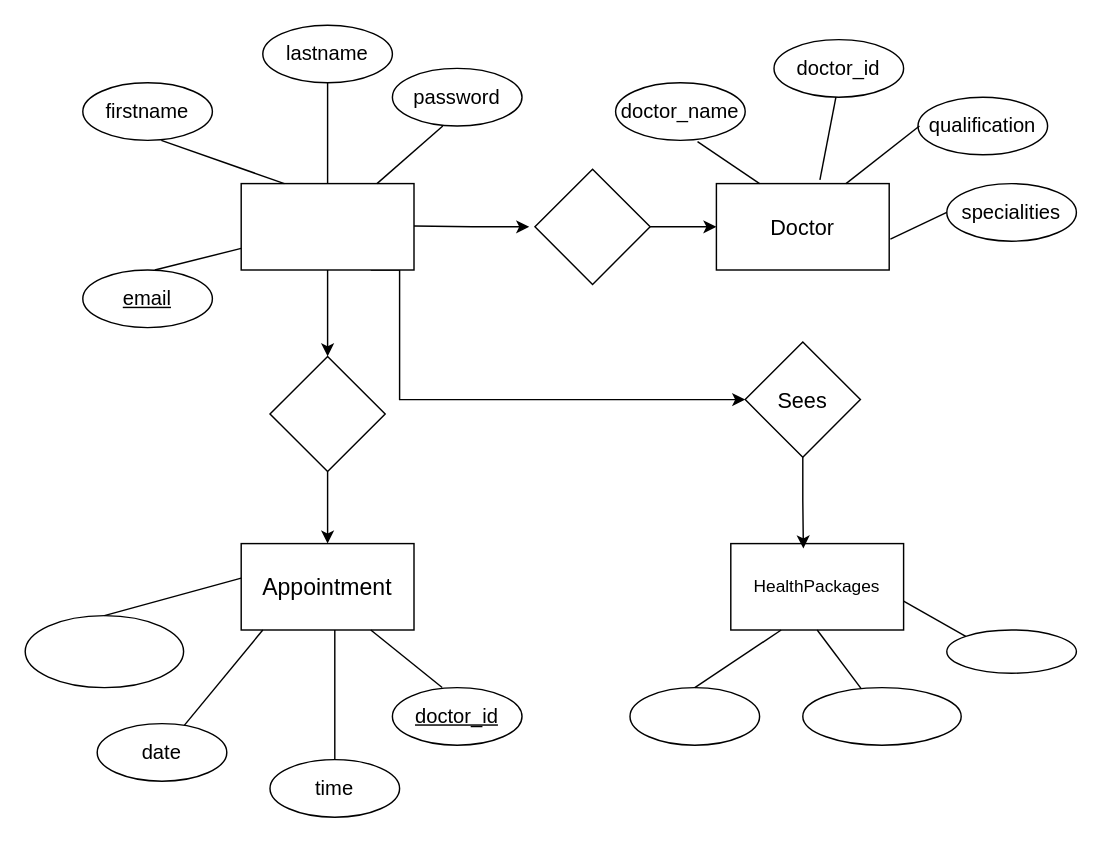
This 1102x842 diagram has some shape labels left out. The shapes that lost their labels are listed below. From the top down, each one's centre as x and y in pixels, then its label:
At point 327,226: "Patient".
At point 592,226: "Visit".
At point 327,413: "book".
At point 104,651: "appointment_id".
At point 1010,651: "price".
At point 694,715: "description".
At point 881,715: "package_name".
